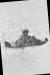N30: (2, 0, 49, 74)
